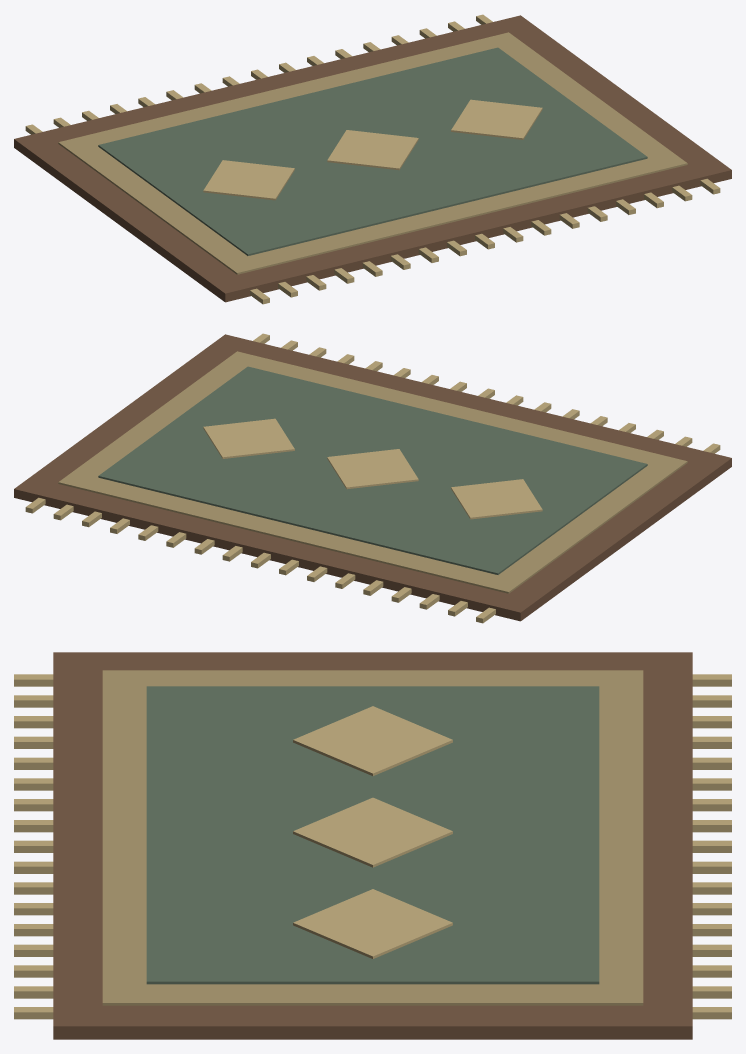
The model's file is Decor_Rug.glb.
The picture shows the model from 3 angles, top to bottom: view 1: azimuth 30°, elevation 25°; view 2: azimuth 150°, elevation 25°; view 3: azimuth 270°, elevation 25°; orthographic projection. The views are drawn at different scales.
Parts seen in each view (by area): view 1: _MeshInstance3D_4360, _MeshInstance3D_4358, _MeshInstance3D_4359, _MeshInstance3D_4361, _MeshInstance3D_4363, _MeshInstance3D_4362; view 2: _MeshInstance3D_4360, _MeshInstance3D_4358, _MeshInstance3D_4359, _MeshInstance3D_4361, _MeshInstance3D_4363, _MeshInstance3D_4362; view 3: _MeshInstance3D_4360, _MeshInstance3D_4358, _MeshInstance3D_4359, _MeshInstance3D_4362, _MeshInstance3D_4361, _MeshInstance3D_4363.
Part boxes in pixels (<box>): _MeshInstance3D_4360: <box>98,47,647,255</box>; _MeshInstance3D_4358: <box>14,15,731,302</box>; _MeshInstance3D_4359: <box>58,32,687,274</box>; _MeshInstance3D_4361: <box>203,160,294,200</box>; _MeshInstance3D_4363: <box>451,99,542,139</box>; _MeshInstance3D_4362: <box>327,130,418,170</box>; _MeshInstance3D_4360: <box>98,366,647,574</box>; _MeshInstance3D_4358: <box>14,334,731,621</box>; _MeshInstance3D_4359: <box>58,351,687,593</box>; _MeshInstance3D_4361: <box>451,479,542,519</box>; _MeshInstance3D_4363: <box>203,418,294,458</box>; _MeshInstance3D_4362: <box>327,449,418,489</box>; _MeshInstance3D_4360: <box>146,686,599,984</box>; _MeshInstance3D_4358: <box>53,652,692,1039</box>; _MeshInstance3D_4359: <box>102,670,643,1005</box>; _MeshInstance3D_4362: <box>293,797,452,867</box>; _MeshInstance3D_4361: <box>293,706,452,775</box>; _MeshInstance3D_4363: <box>293,889,452,958</box>.
Size of the model in its own units: 1.8 by 0.048 by 1.46.
